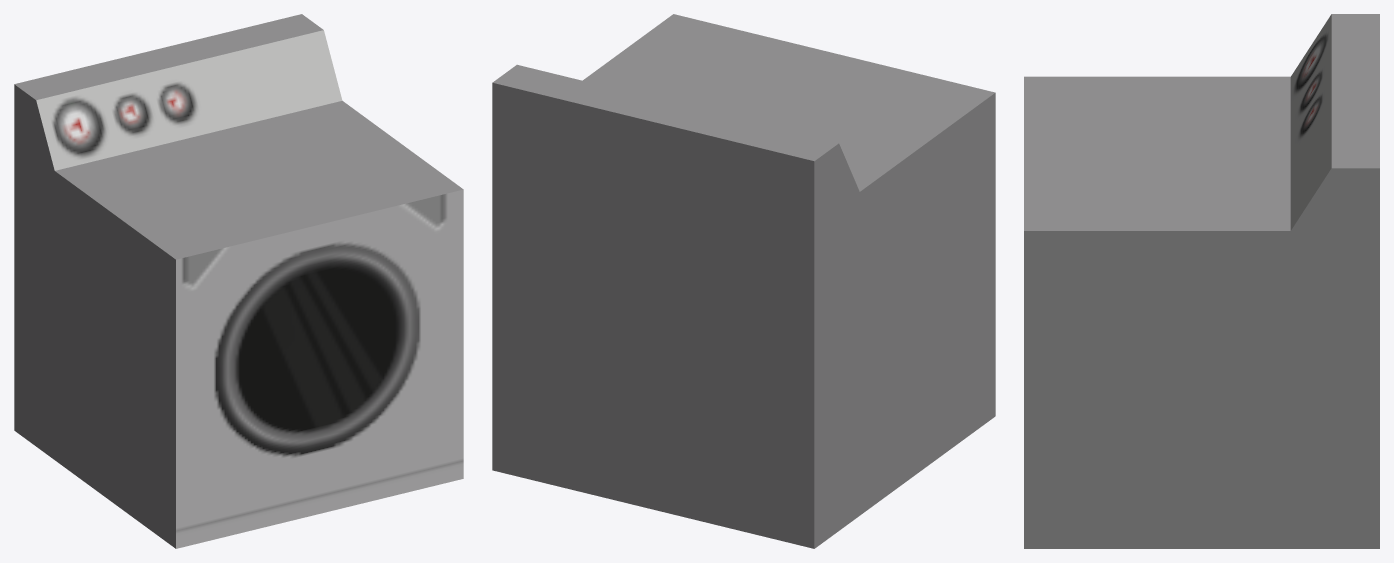
File: Dryer.fbx
3 renders of one model, left to right at view 1: azimuth 30°, elevation 25°; view 2: azimuth 150°, elevation 25°; view 3: azimuth 270°, elevation 25°, orthographic. The views are drawn at different scales.
Parts seen in each view (by area): view 1: Maya_File_Assets:TexturedAssetsCurrent:dryer; view 2: Maya_File_Assets:TexturedAssetsCurrent:dryer; view 3: Maya_File_Assets:TexturedAssetsCurrent:dryer.
Part boxes in pixels (x1,y1,x2,y2): Maya_File_Assets:TexturedAssetsCurrent:dryer: (14, 14, 463, 548); Maya_File_Assets:TexturedAssetsCurrent:dryer: (492, 14, 995, 548); Maya_File_Assets:TexturedAssetsCurrent:dryer: (1024, 14, 1379, 548).
Bounding box in the file's own units: 1 × 1.15 × 0.9773.
